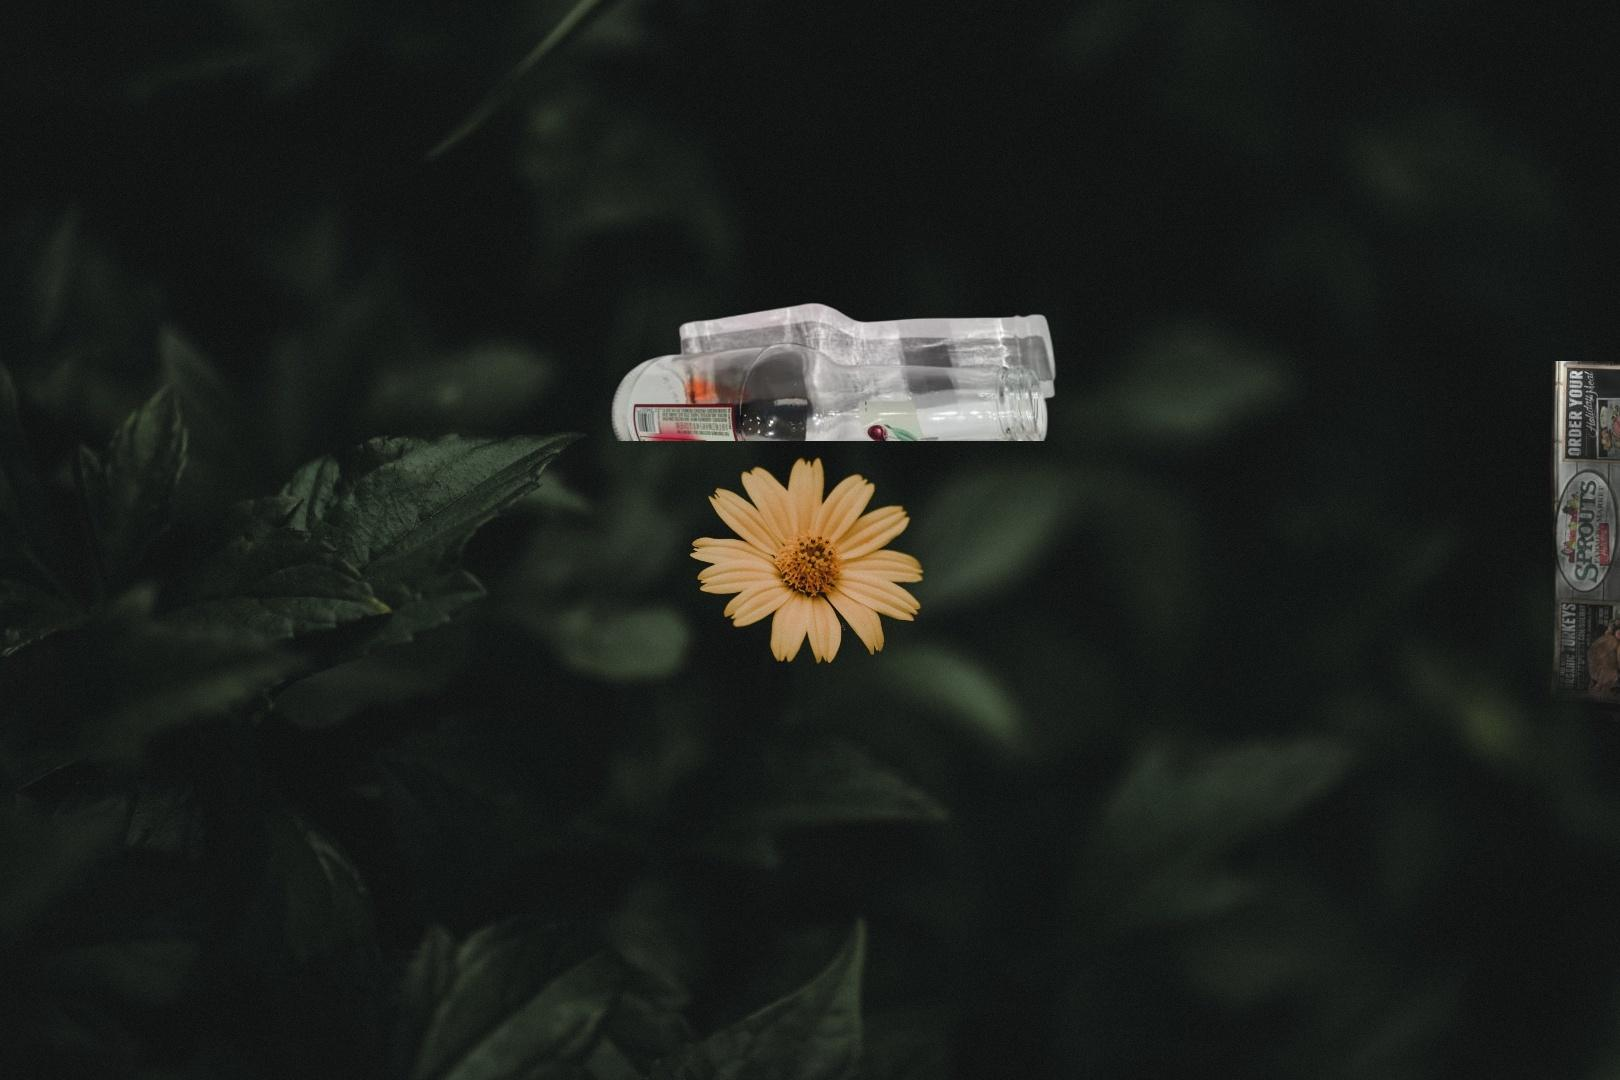glass: (607, 299, 1060, 441)
paper: (1499, 360, 1620, 745)
